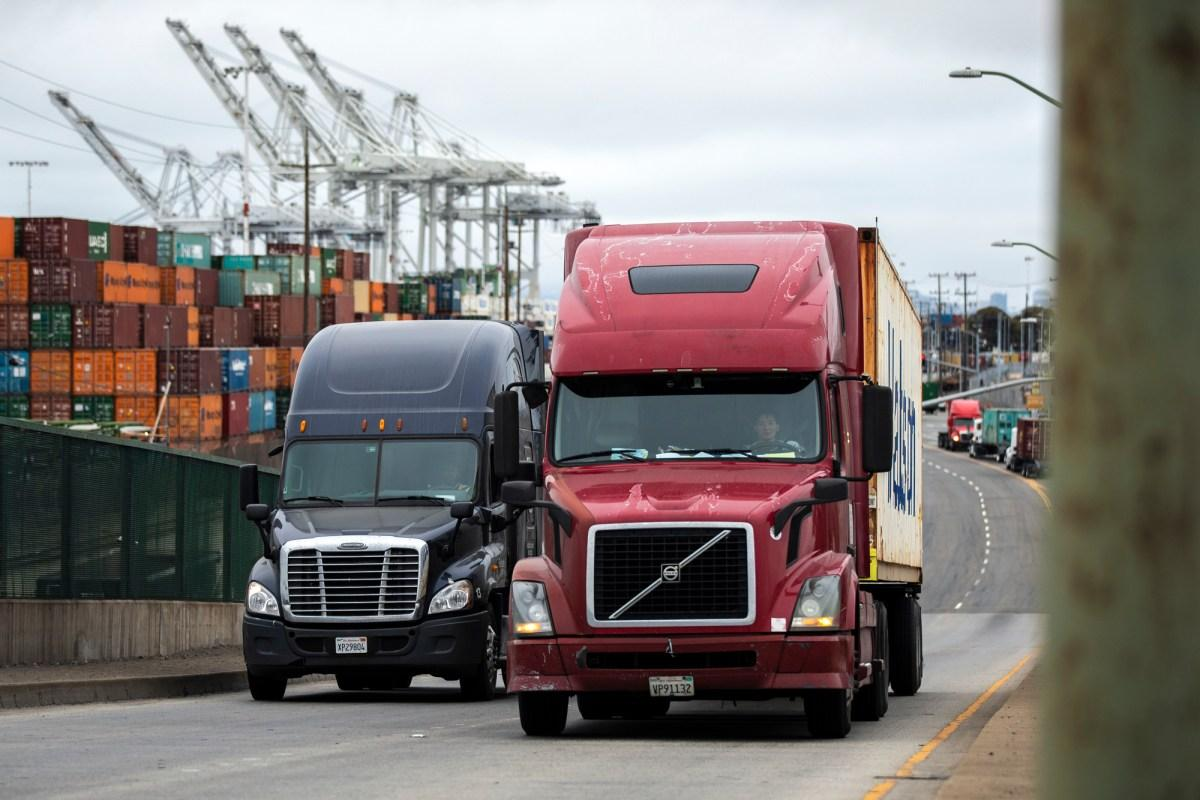truck: (507, 220, 924, 739), (240, 320, 548, 703), (935, 398, 980, 451)
